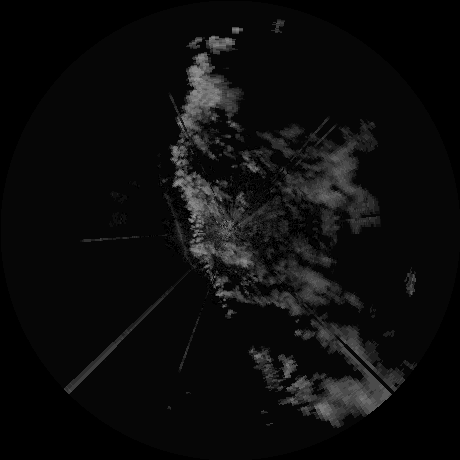frontgust: (163, 193, 192, 266)
